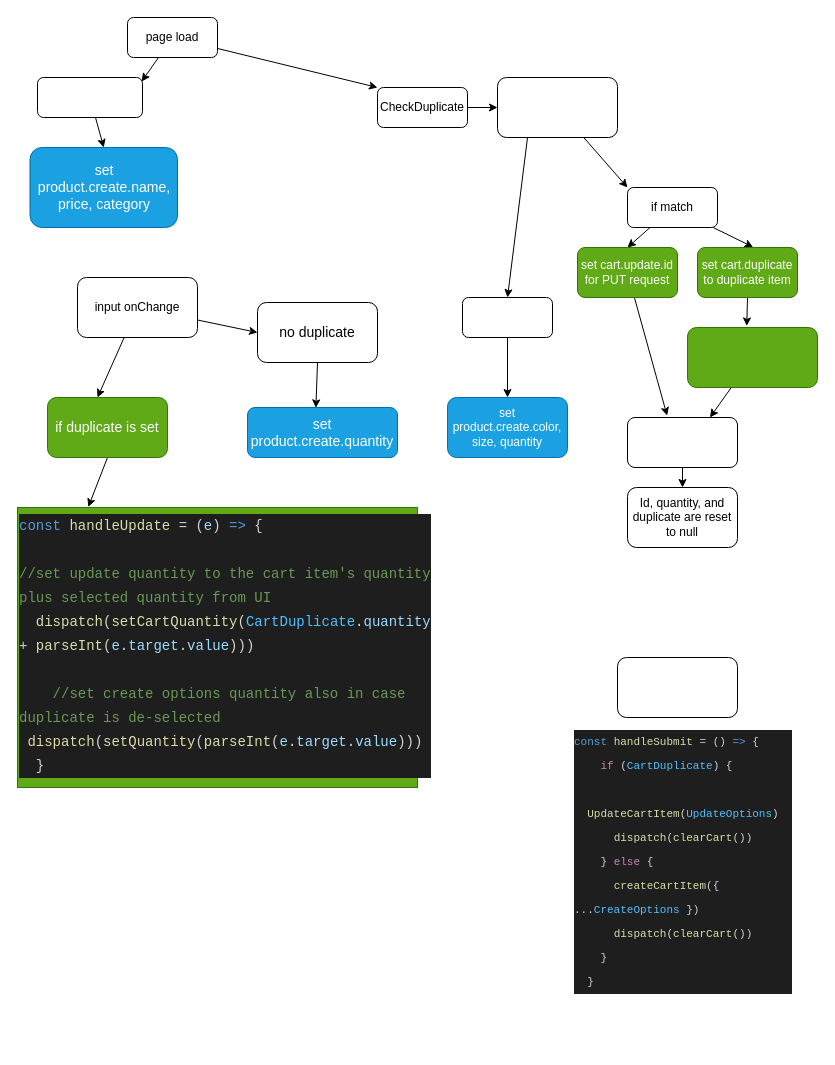
Some shapes in this 835 by 1065 pixel diagram are drawn without their labels. The shapes that lost their labels are listed below. From the top down, each one's centre as x and y in pixels, then its label:
At point (89, 97): "dispatch (setFixedVariables)".
At point (557, 107): "Checks to see if any items in cart match current selection of size + color".
At point (507, 317): "No match".
At point (752, 357): "cart.update.quanitity is set to current selection + quantity of duplicate".
At point (682, 442): "Duplicate is de-selected".
At point (677, 687): "Button onClick".
